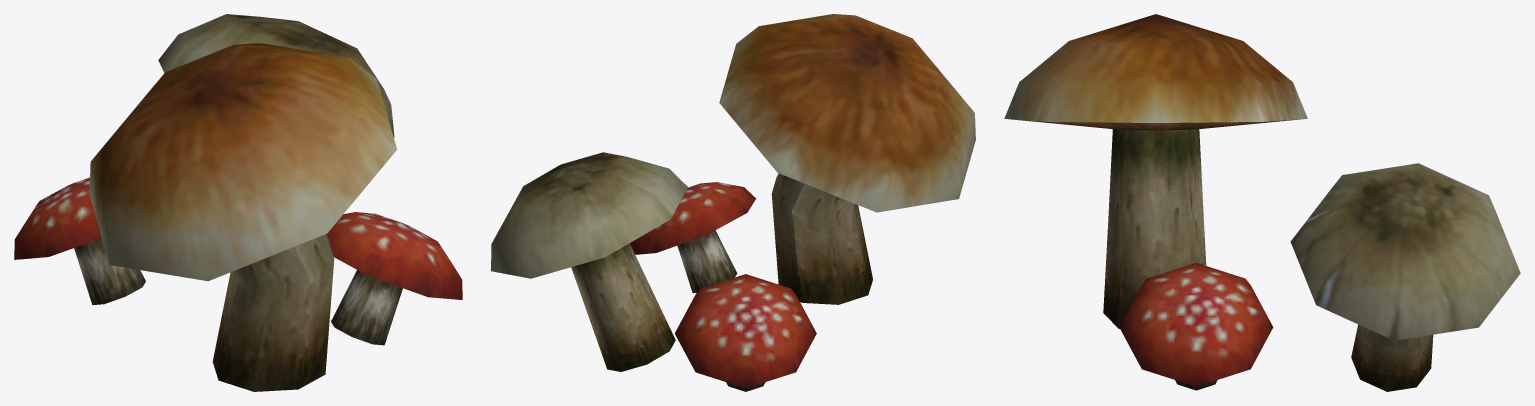
Rendered from mogu_010.FBX.
3 views of the same model, side by side, from view 1: azimuth 30°, elevation 25°; view 2: azimuth 150°, elevation 25°; view 3: azimuth 270°, elevation 25° (orthographic). The views are drawn at different scales.
Parts seen in each view (by area): view 1: mogu_010_02; view 2: mogu_010_02; view 3: mogu_010_02.
Boxes of the visible parts, x1,y1,x2,y2 form: mogu_010_02: (14, 14, 462, 391); mogu_010_02: (491, 14, 975, 391); mogu_010_02: (1004, 14, 1520, 391).
Bounding box in the file's own units: 0.9487 × 0.7404 × 1.15.
